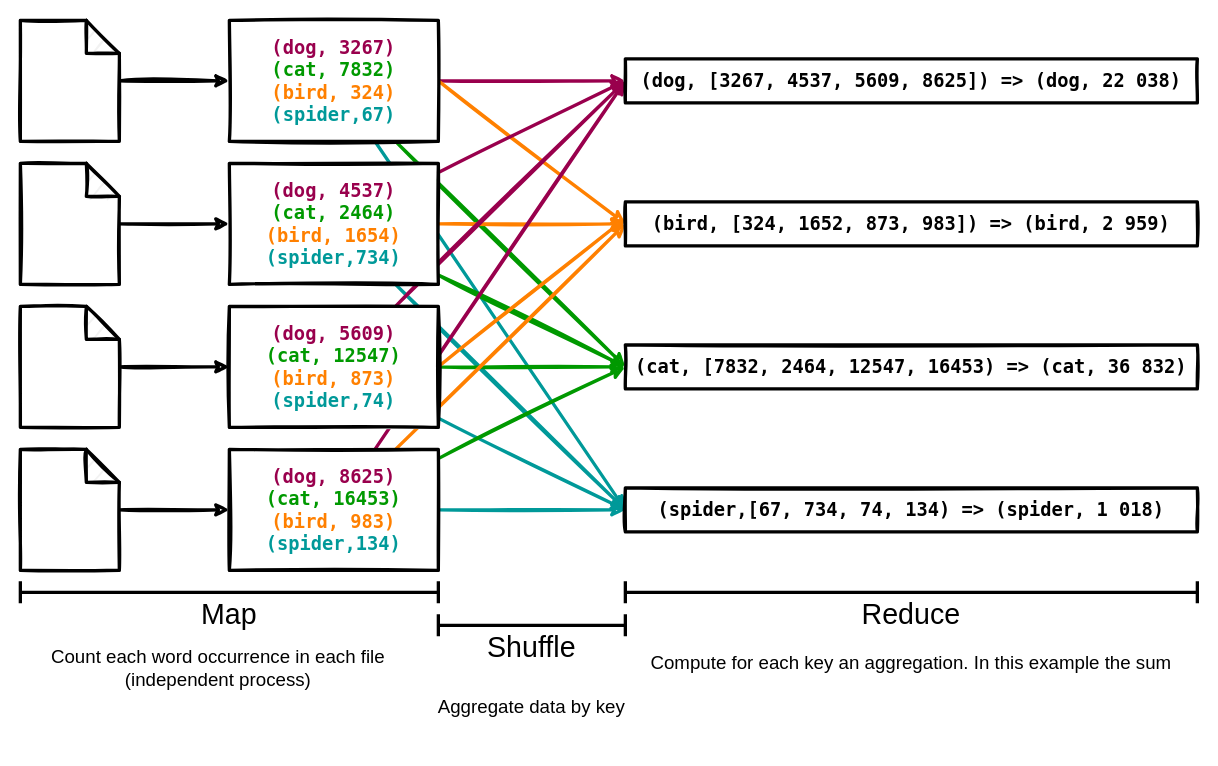
Image size: 1218x766. Some labels were removed from this diagram. Here are the shapes that lost their labels. From the top down, the box of each, then its label:
(18, 18, 120, 142): tweets-part-1
(18, 161, 120, 285): tweets-part-2
(18, 304, 120, 428): tweets-part-3
(18, 447, 120, 571): tweets-part-4
